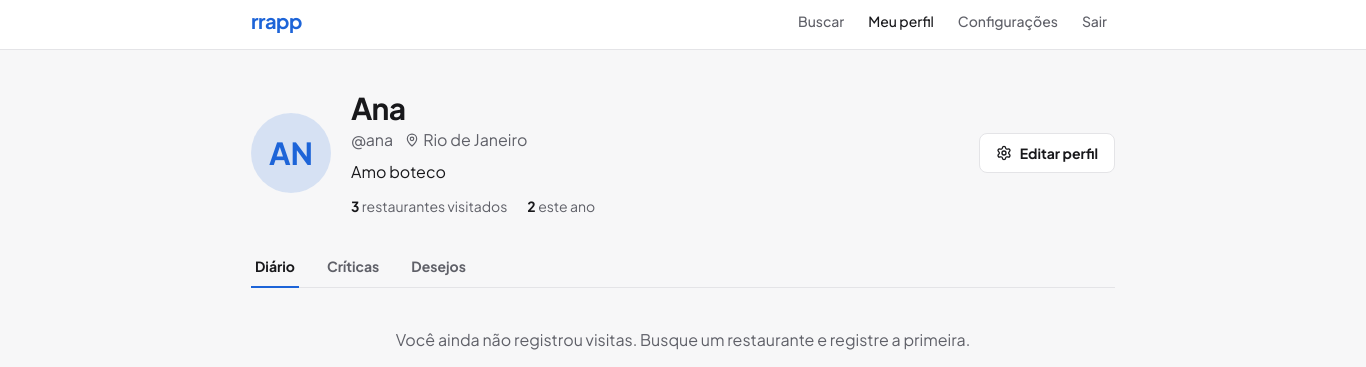
vazio no próprio perfil ensina a guardar
This screenshot has width=1366, height=367.
Click the tab "Desejos".
click(439, 272)  # box [407,256,470,288]
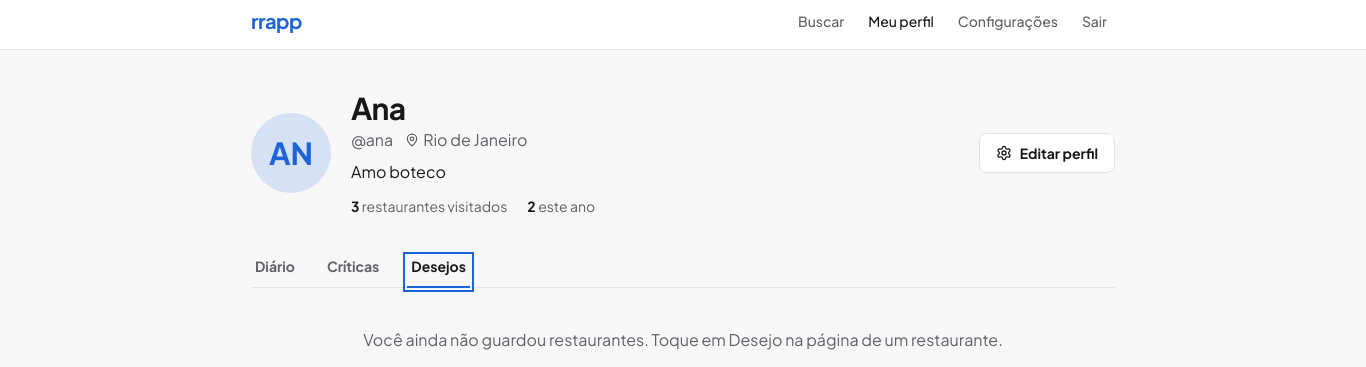
Result: the text "Você ainda não guardou restaurantes. Toque em Desejo na página de um restaurante." is shown at [363,329,1003,350]
